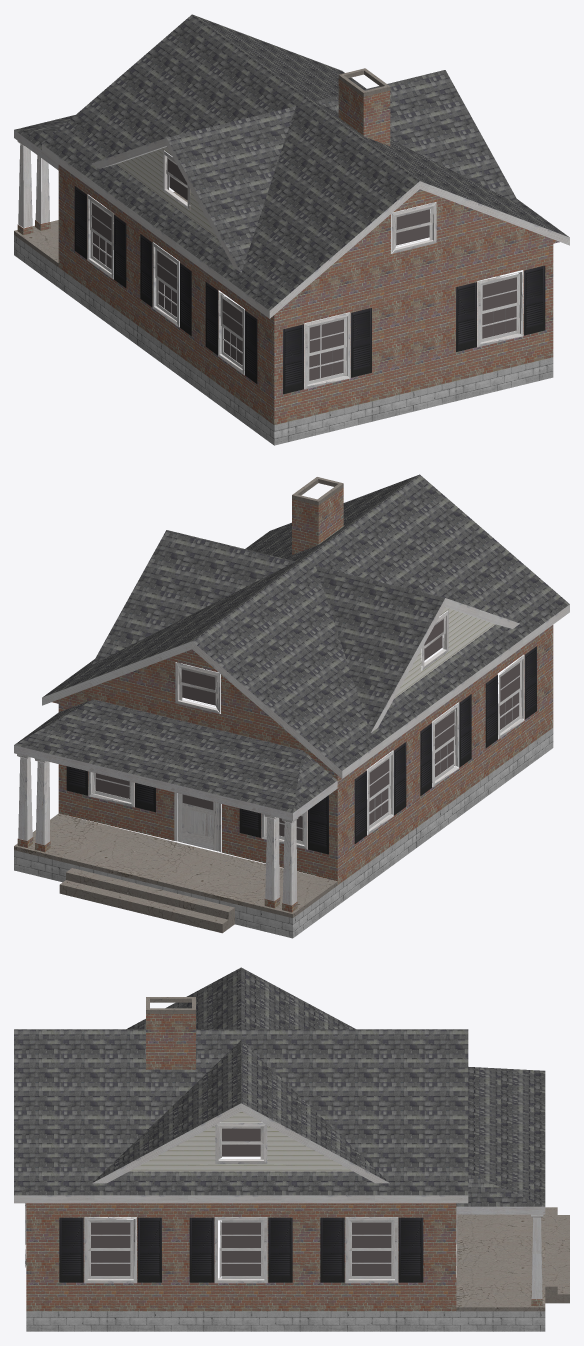
3 renders of one model, top to bottom at view 1: azimuth 30°, elevation 25°; view 2: azimuth 150°, elevation 25°; view 3: azimuth 270°, elevation 25°, orthographic.
Size of the model in its own units: 310 by 269 by 498.
Materials: 14 (8 with a texture image).
